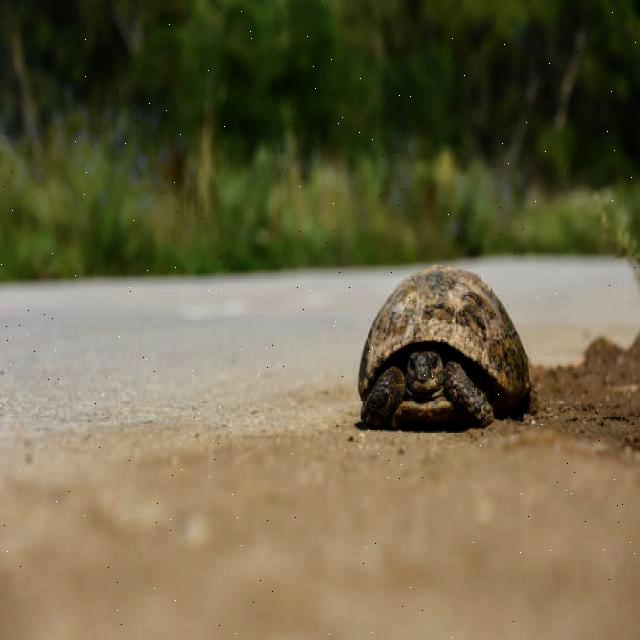tortoise: (352, 266, 534, 432)
